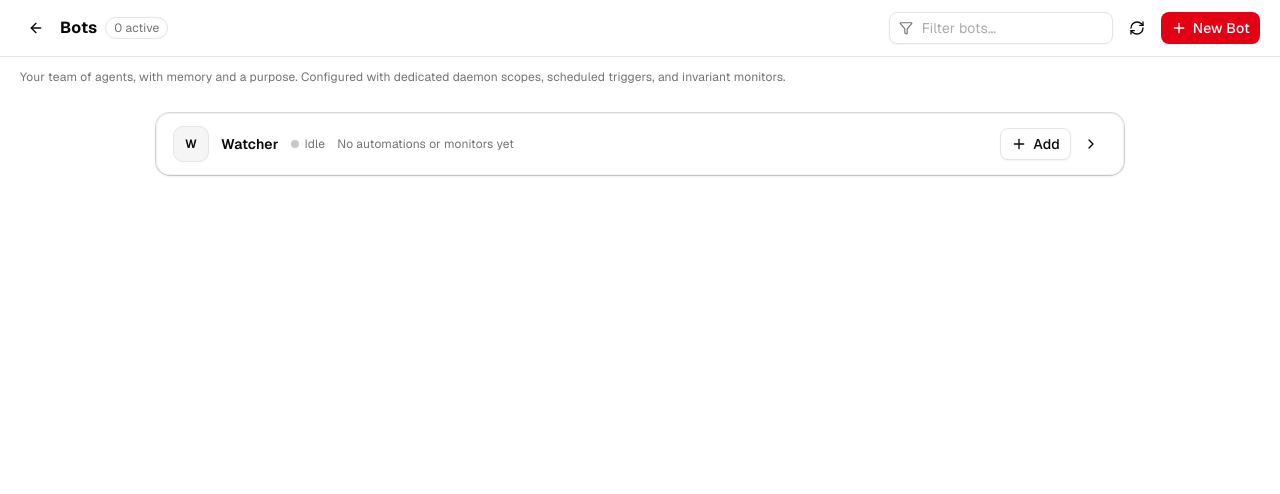
Test: use-bots-page-controller: expand/collapse toggles › expands a collapsed (unconfigured) card and shows the honest empty columns
Expected: the text "No automations or monitors yet" is shown, x1=337 y1=136 x2=514 y2=152
Click the button with test id "bot-expand-bot-1".
click(1091, 144)  # box x1=1075 y1=128 x2=1107 y2=160
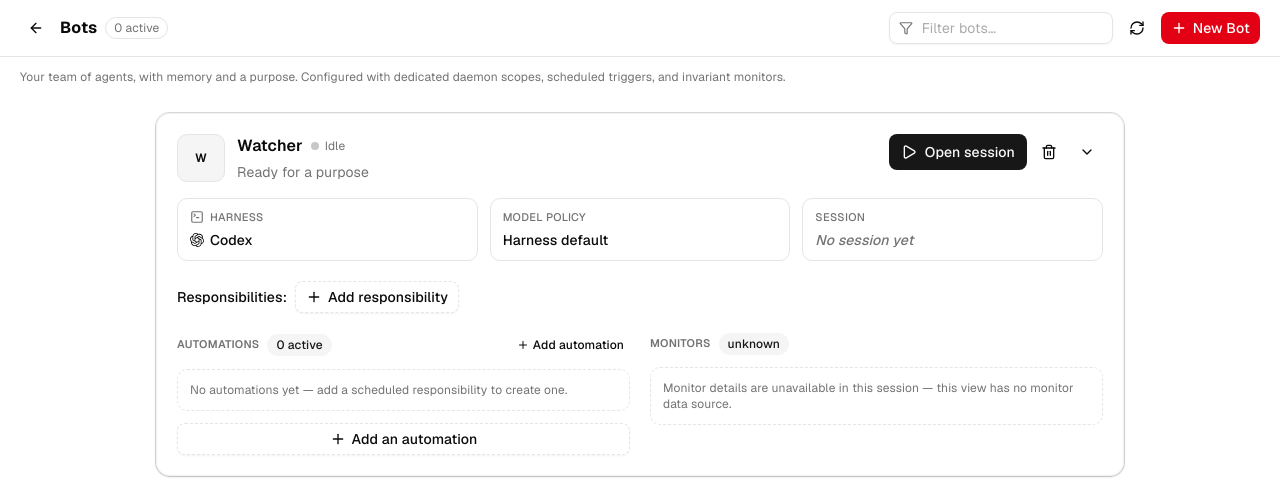
Now the button with test id "open-session-bot-1" is shown, box x1=889 y1=134 x2=1027 y2=170
Now the text "Monitor details are unavailable" is shown, box x1=663 y1=380 x2=1074 y2=412
